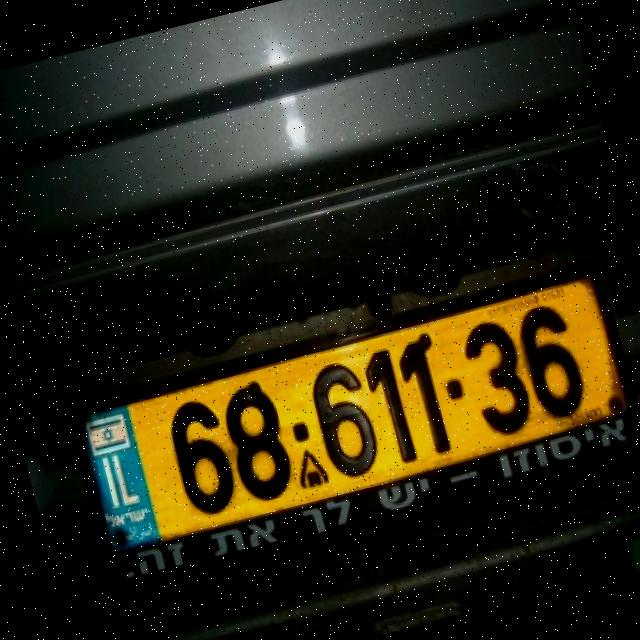Autre: (74, 280, 640, 576)
